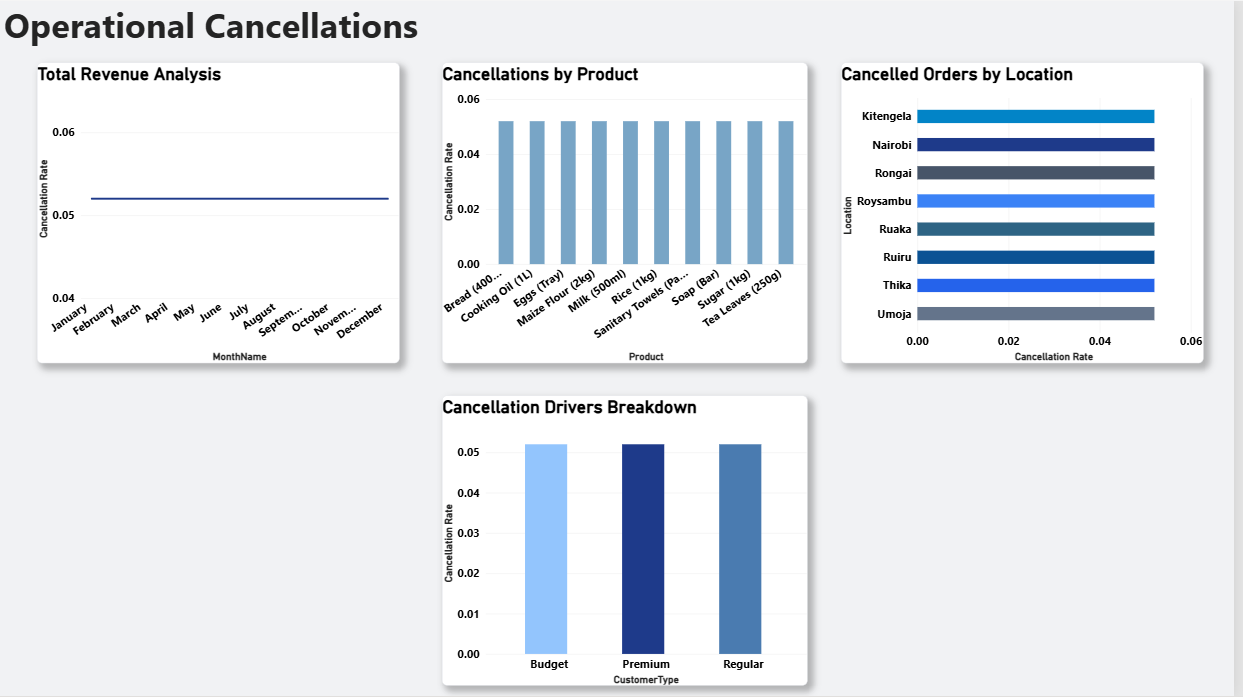

The page's visual inventory and layout, read from the dashboard file:
{"tool":"powerbi","page":{"name":"Operational Cancellations","canvas":[1920,1080],"ordinal":3},"visuals":[{"type":"textbox","box":[9.5,0,660.9,95.4],"z":0},{"type":"lineChart","title":"Total Revenue Analysis","fields":{"Category":["dim_date.MonthName"],"Y":["dim_customers.Cancellation Rate"]},"box":[59.6,95.4,563.1,467.6],"z":1000},{"type":"clusteredColumnChart","title":"Cancellations by Product","fields":{"Category":["dim_products.Product"],"Y":["dim_customers.Cancellation Rate"]},"box":[689.5,95.4,567.8,467.6],"z":2000},{"type":"clusteredBarChart","title":"Cancelled Orders by Location","fields":{"Category":["dim_customers.Location"],"Y":["dim_customers.Cancellation Rate"]},"box":[1309.9,95.4,563.1,467.6],"z":3000},{"type":"columnChart","title":"Cancellation Drivers Breakdown","fields":{"Category":["dim_customers.CustomerType"],"Y":["dim_customers.Cancellation Rate"]},"box":[689.5,613.2,567.8,450.9],"z":4000}]}

Visuals, with their boxes in screenshot pixels (x1, y1, x2, y2), scaled from the page's 1920x1080 canvas onto the 1243x697 screenshot:
textbox: (left=6, top=0, right=434, bottom=62)
"Total Revenue Analysis" lineChart: (left=39, top=62, right=403, bottom=363)
"Cancellations by Product" clusteredColumnChart: (left=446, top=62, right=814, bottom=363)
"Cancelled Orders by Location" clusteredBarChart: (left=848, top=62, right=1213, bottom=363)
"Cancellation Drivers Breakdown" columnChart: (left=446, top=396, right=814, bottom=687)
